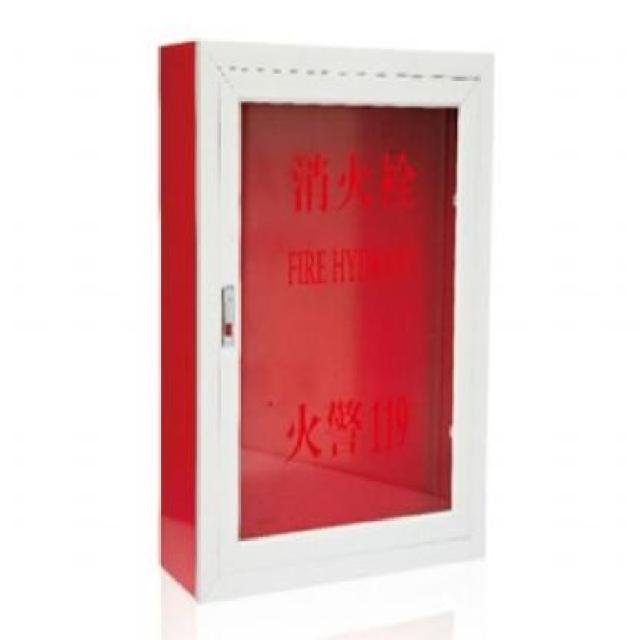firehydrant: (154, 34, 498, 613)
